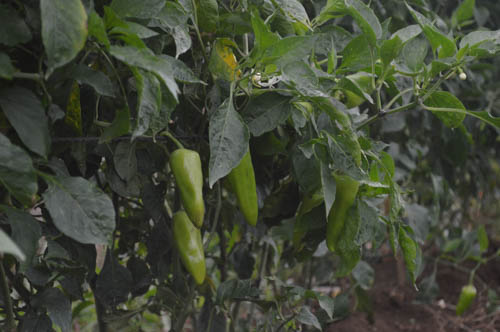ChiliPepper: (318, 173, 359, 254), (170, 150, 207, 224), (226, 148, 262, 224), (171, 212, 209, 282)
